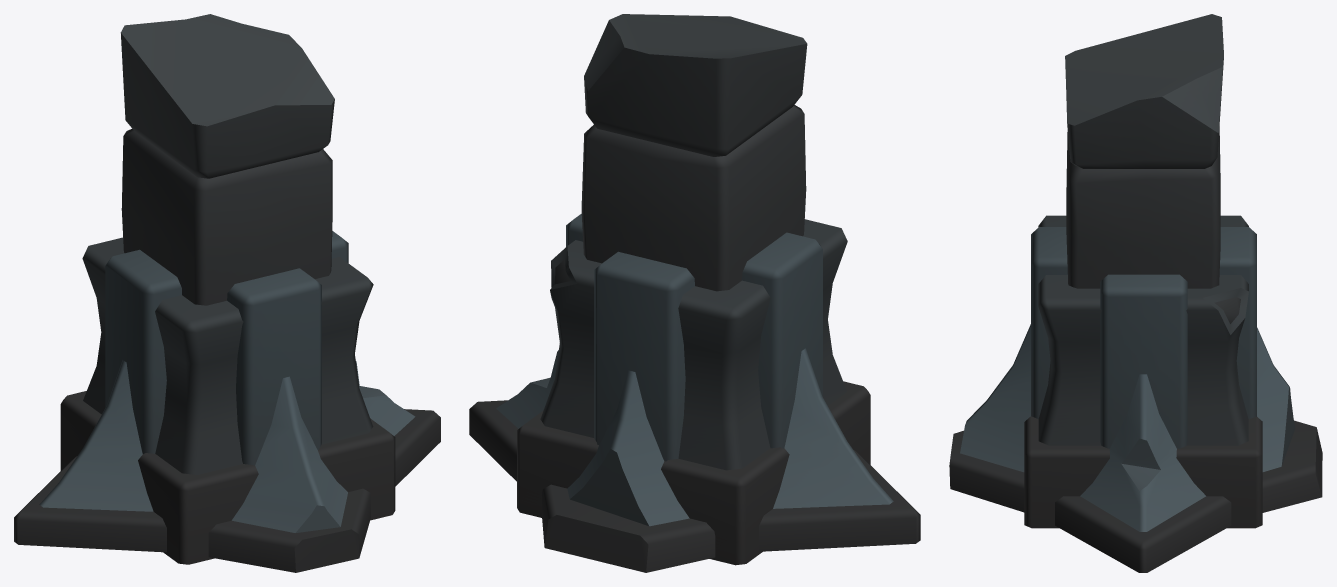
File: inferno-column-big-broken-001.glb
3 renders of one model, left to right at view 1: azimuth 30°, elevation 25°; view 2: azimuth 150°, elevation 25°; view 3: azimuth 270°, elevation 25°, orthographic. The views are drawn at different scales.
Parts seen in each view (by area): view 1: ColumnBigBroken_001; view 2: ColumnBigBroken_001; view 3: ColumnBigBroken_001.
Part boxes in pixels (x1,y1,x2,y2): ColumnBigBroken_001: [14, 14, 440, 572]; ColumnBigBroken_001: [469, 14, 920, 572]; ColumnBigBroken_001: [949, 14, 1322, 572].
Size of the model in its own units: 4.52 by 4.64 by 3.64.
Materials: 1 (1 with a texture image).
